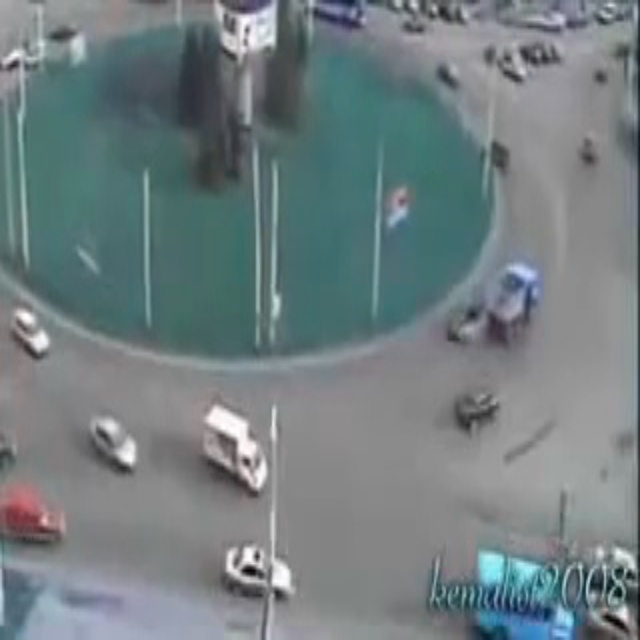acc: (437, 247, 549, 436)
